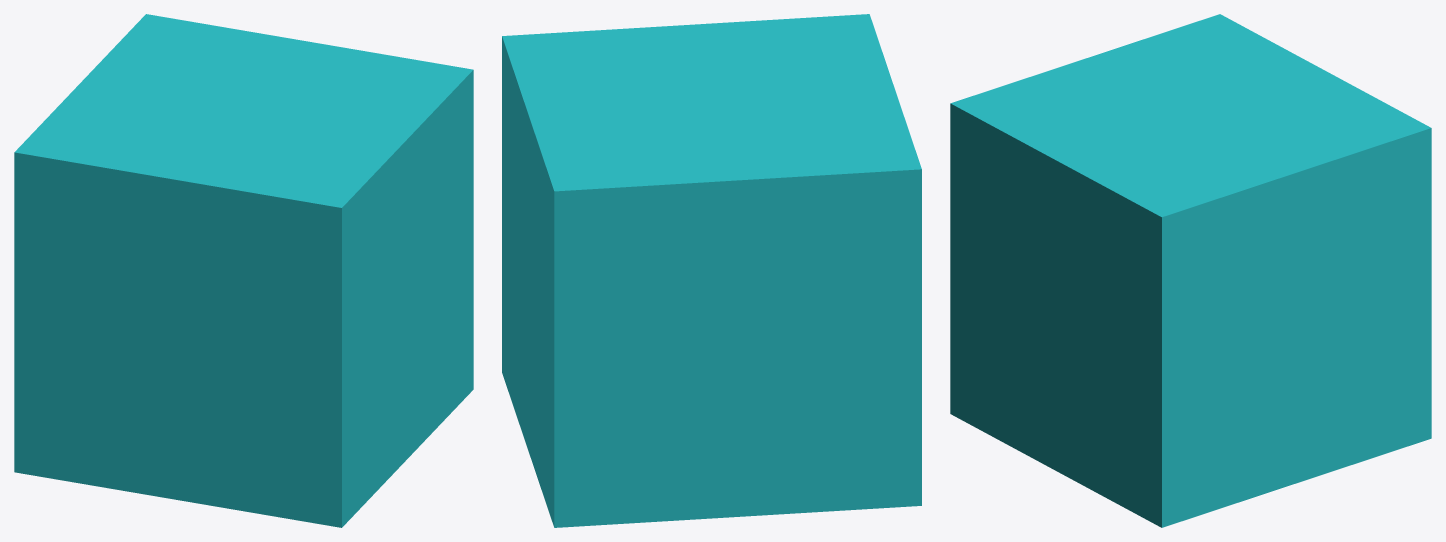
The picture shows the model from 3 angles, left to right: view 1: azimuth 30°, elevation 25°; view 2: azimuth 150°, elevation 25°; view 3: azimuth 270°, elevation 25°; orthographic projection. The views are drawn at different scales.
Parts seen in each view (by area): view 1: Cube; view 2: Cube; view 3: Cube.
Part boxes in pixels (x1,y1,x2,y2): Cube: (14, 14, 473, 527); Cube: (502, 14, 921, 527); Cube: (950, 14, 1431, 527).
Bounding box in the file's own units: 1404 × 1000 × 1404.
